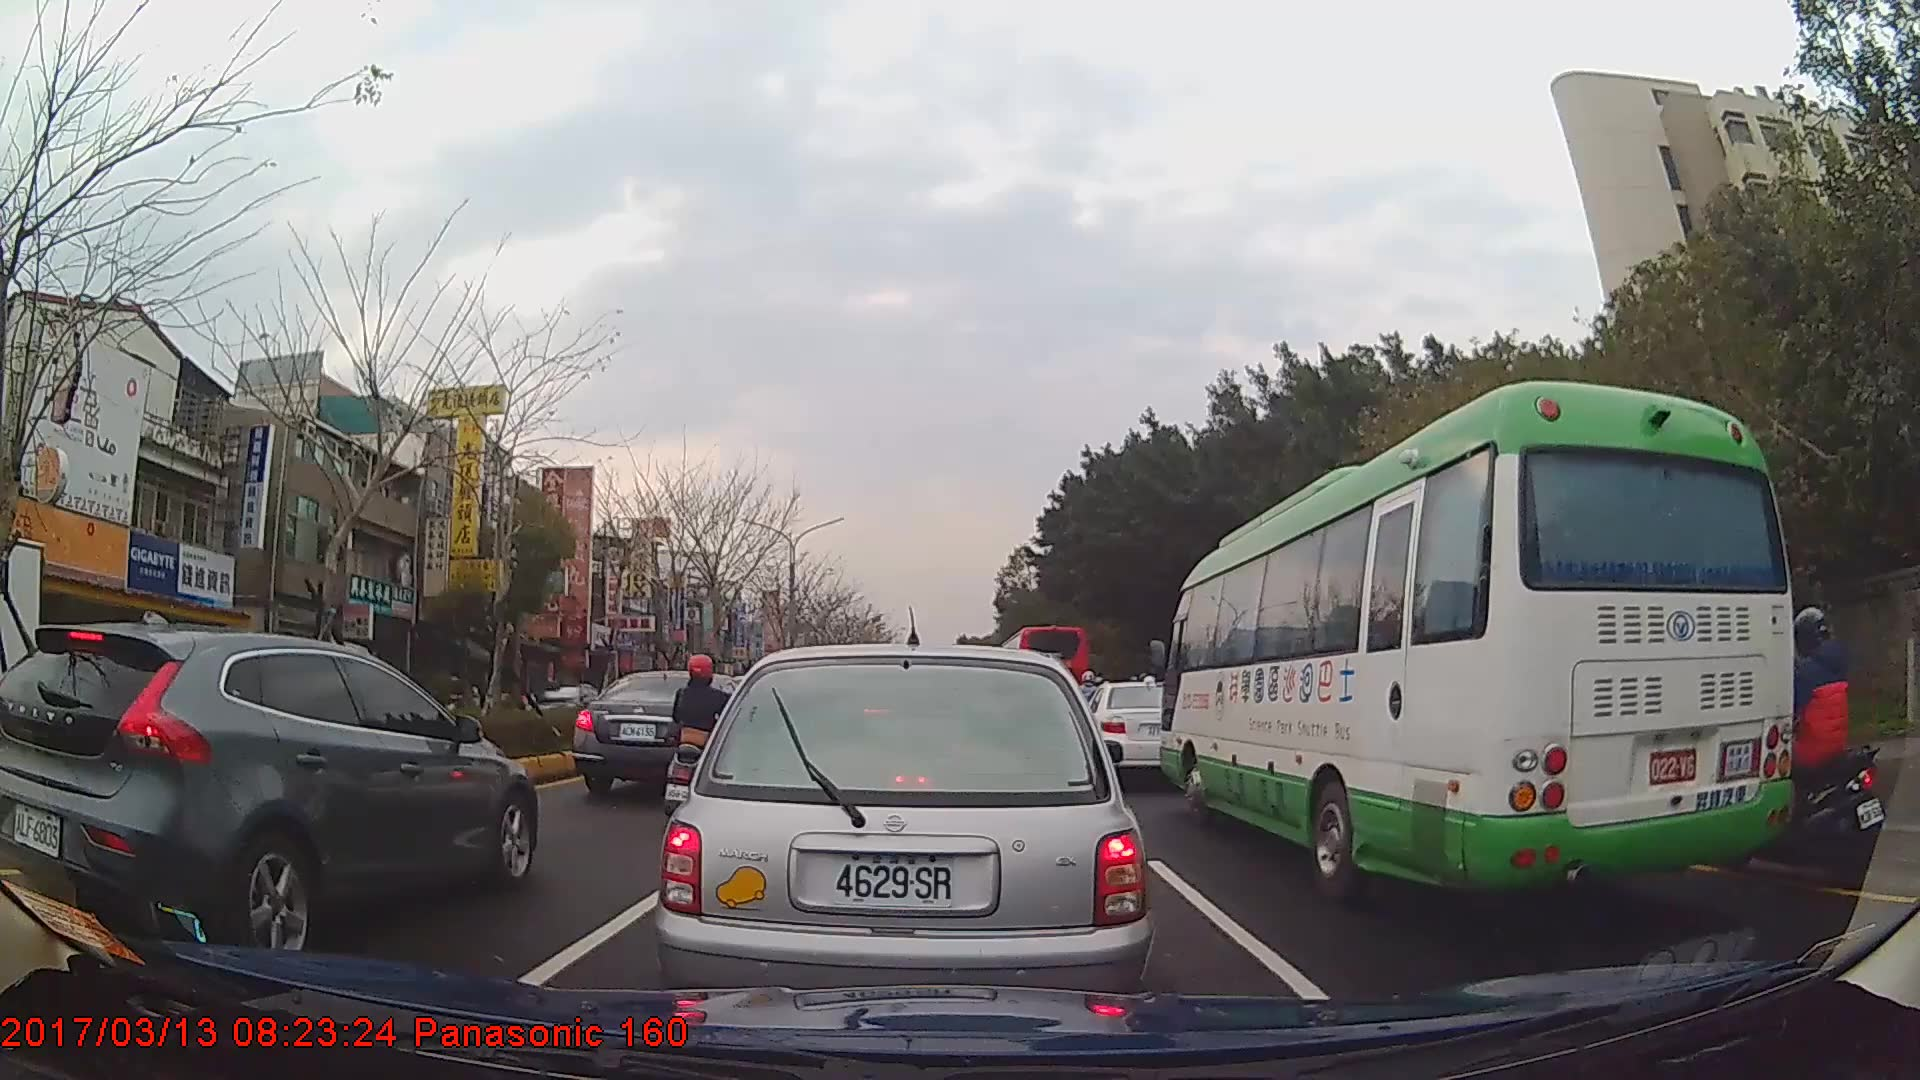rider: (1729, 605, 1882, 876), (667, 652, 742, 827)
vehicle: (1156, 378, 1790, 904), (652, 644, 1154, 1032), (0, 620, 539, 965), (152, 630, 372, 806), (572, 670, 753, 798), (0, 528, 46, 878), (1077, 680, 1200, 787), (992, 622, 1089, 727), (530, 684, 599, 729)
